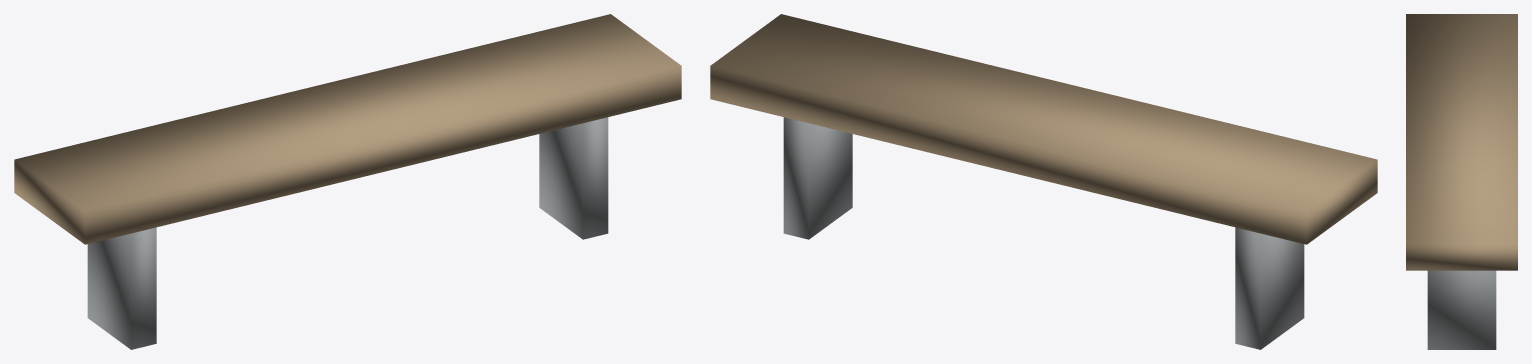
File: gallery_bench__wide.glb
The picture shows the model from 3 angles, left to right: view 1: azimuth 30°, elevation 25°; view 2: azimuth 150°, elevation 25°; view 3: azimuth 270°, elevation 25°; orthographic projection. The views are drawn at different scales.
Visible parts, largest first — view 1: world; view 2: world; view 3: world.
Part boxes in pixels (x1=…): world: x1=14, y1=14, x2=681, y2=349; world: x1=710, y1=14, x2=1377, y2=349; world: x1=1406, y1=14, x2=1517, y2=349.
Bounding box in the file's own units: 2.05 × 0.535 × 0.42.
